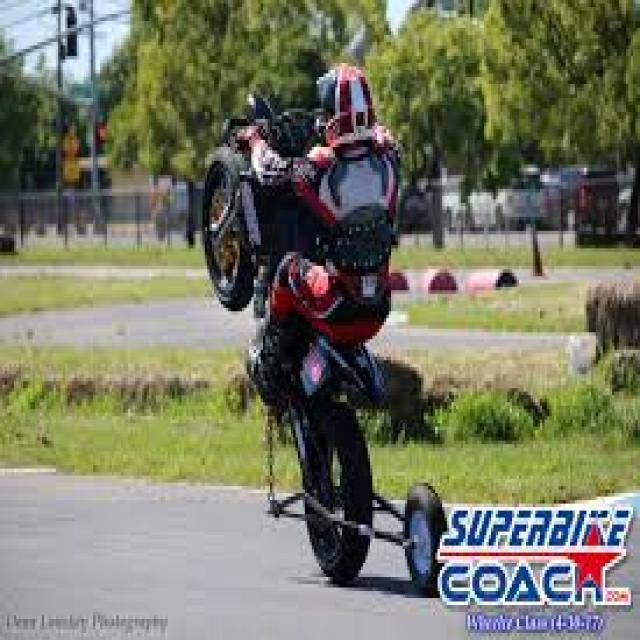Wheeling: (240, 73, 454, 551)
